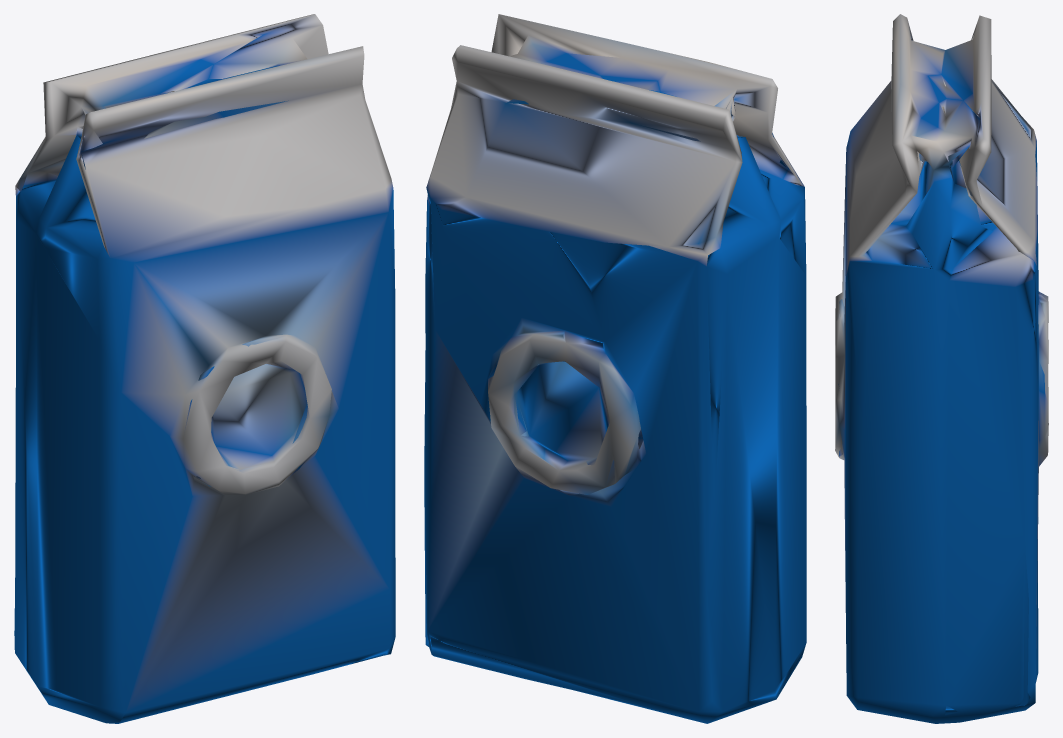
The model's file is gen3d-milk-carton-lod1.glb.
The picture shows the model from 3 angles, left to right: view 1: azimuth 30°, elevation 25°; view 2: azimuth 150°, elevation 25°; view 3: azimuth 270°, elevation 25°; orthographic projection. The views are drawn at different scales.
Parts seen in each view (by area): view 1: part_0; view 2: part_0; view 3: part_0.
Boxes of the visible parts, bbox=[...] form: part_0: bbox=[14, 14, 395, 723]; part_0: bbox=[424, 14, 806, 723]; part_0: bbox=[835, 14, 1048, 723].
Size of the model in its own units: 0.5728 by 0.9999 by 0.3345.
